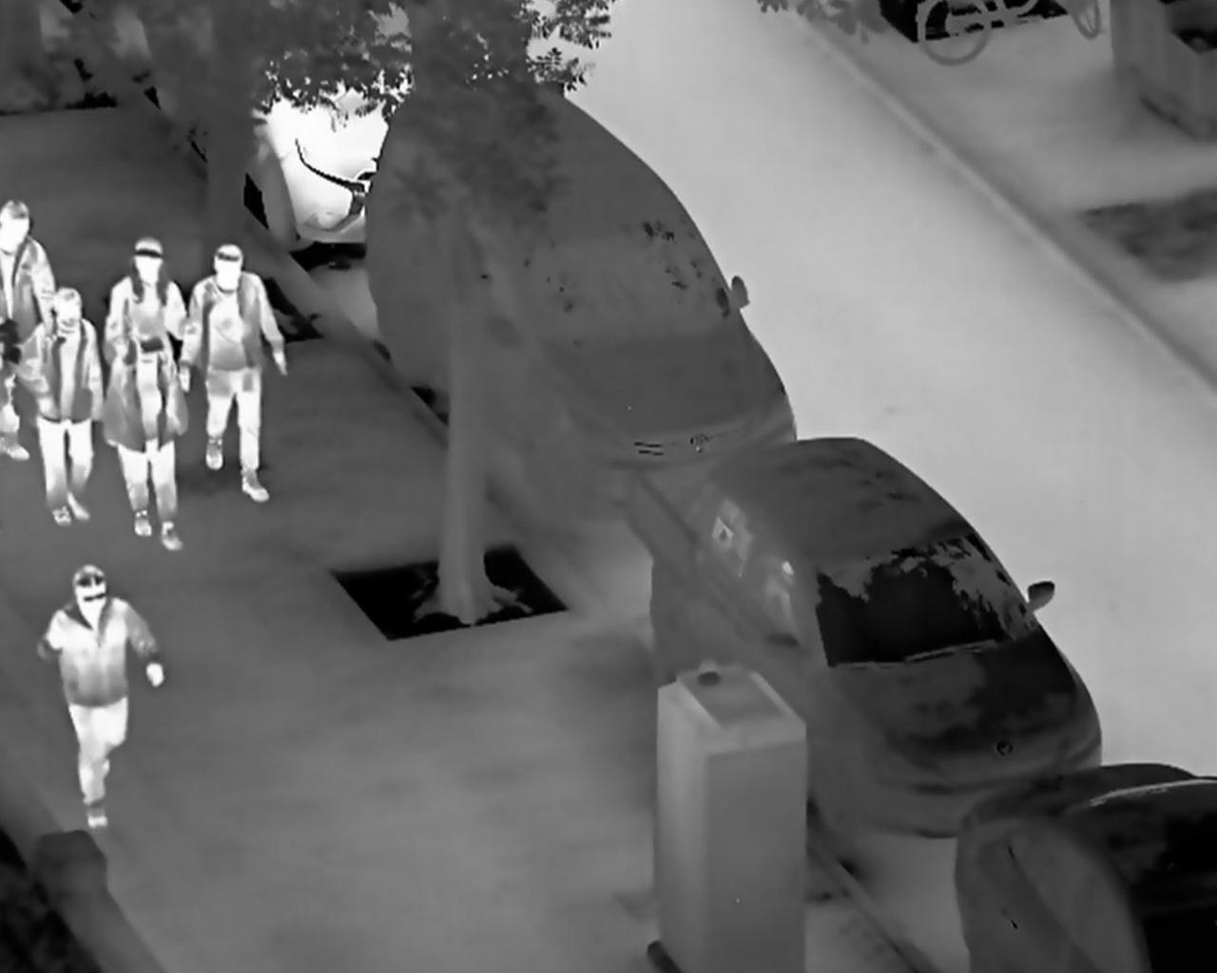person: (34, 564, 165, 830), (176, 242, 289, 502), (101, 317, 195, 557), (14, 285, 103, 527), (98, 233, 185, 395)
